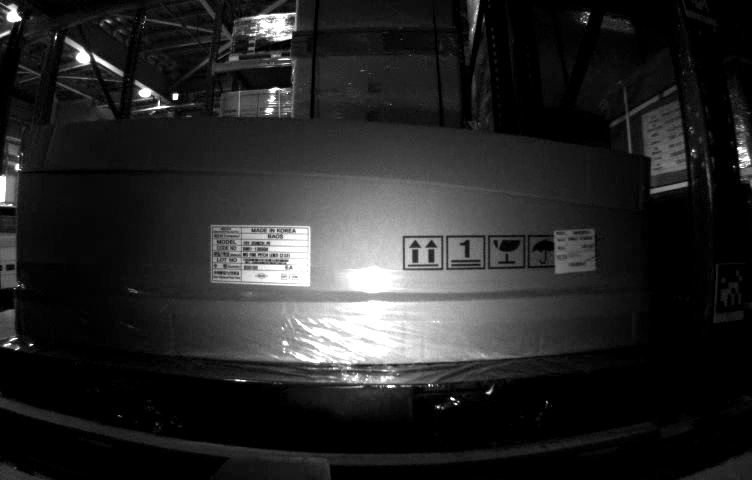True Barcode: (551, 229, 597, 272)
